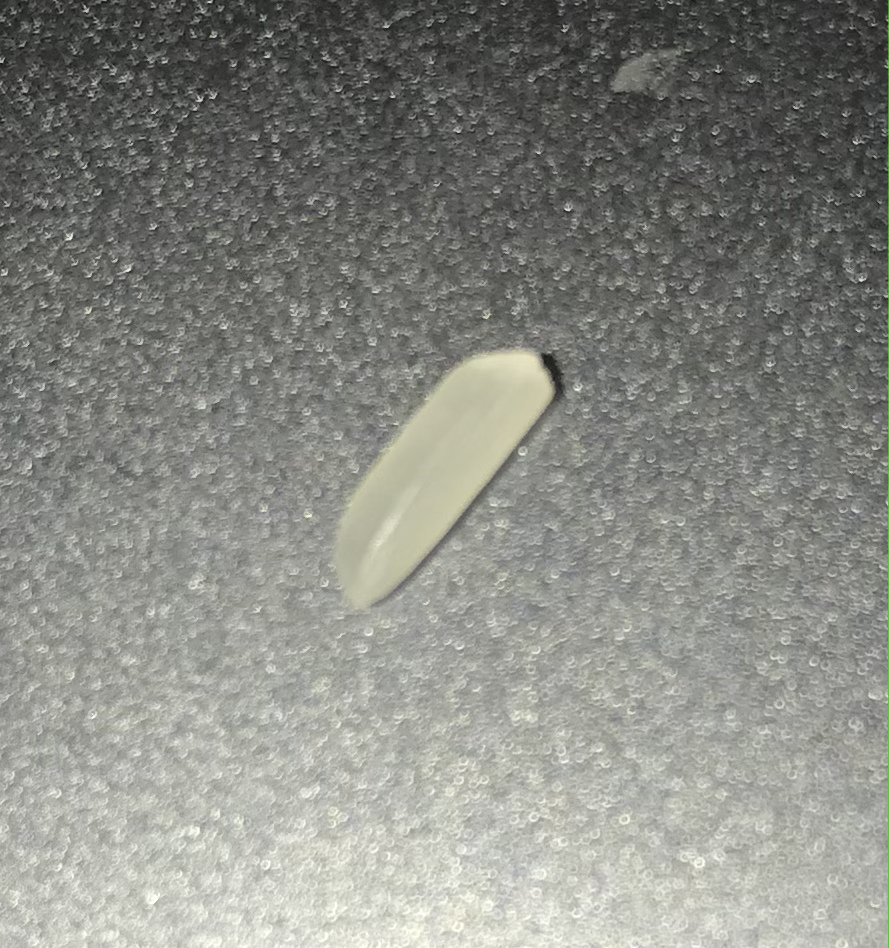Gao Thom My: (316, 311, 591, 637)
